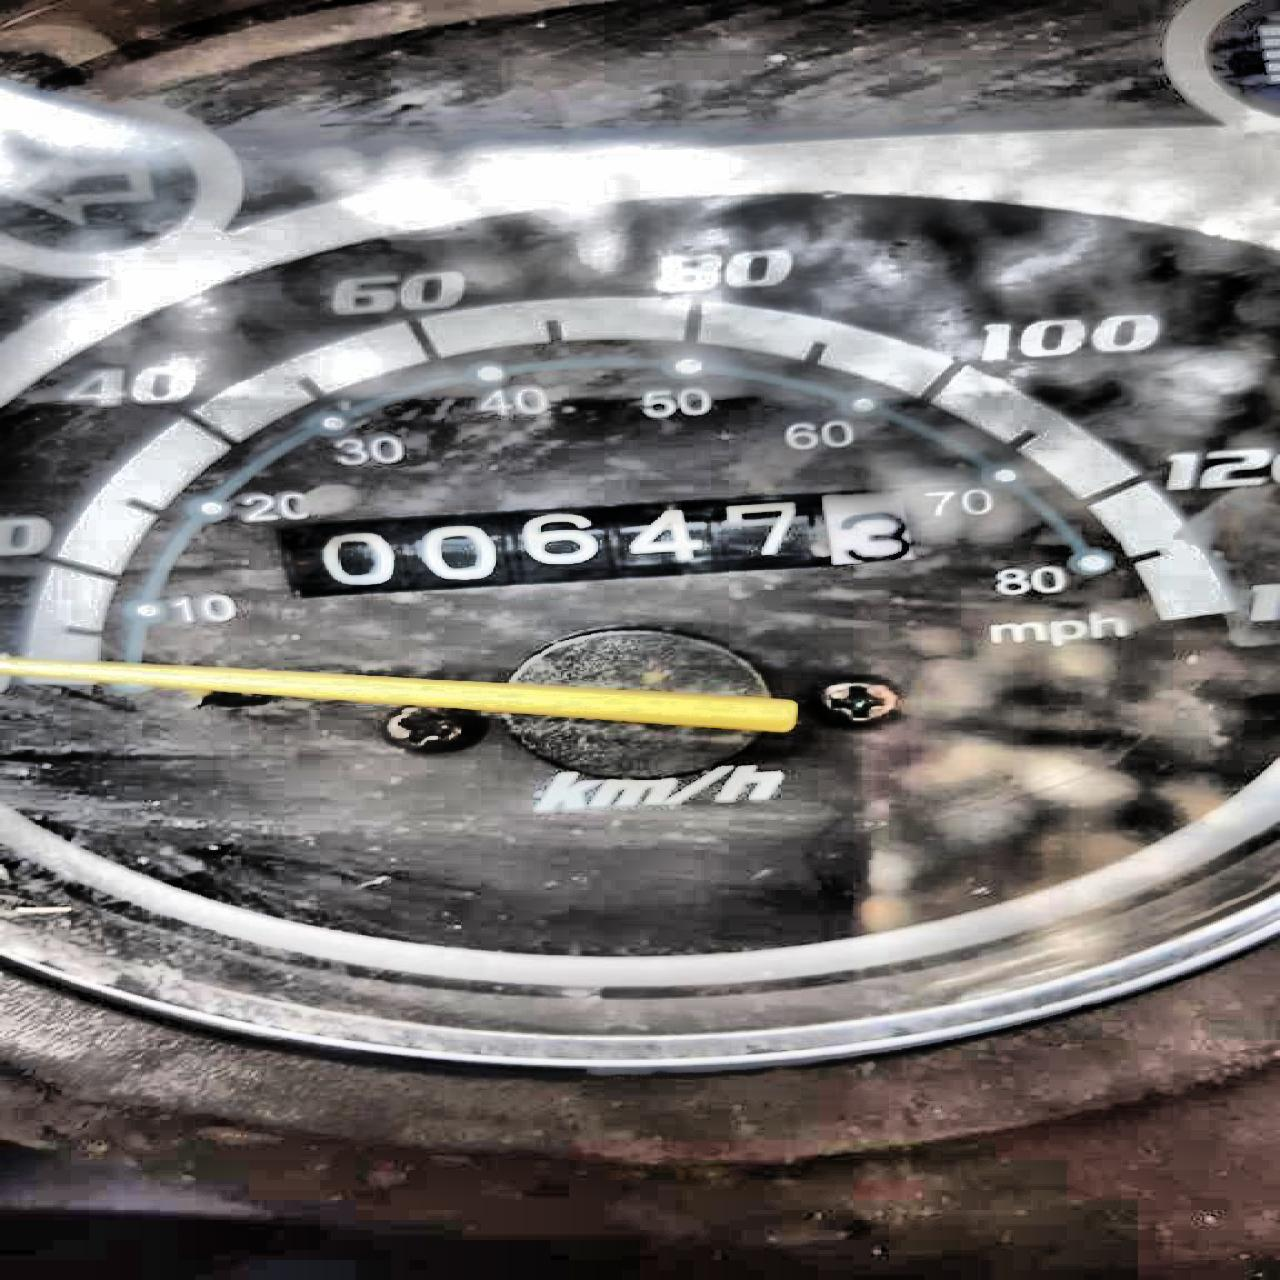0: (414, 519, 504, 586), (305, 527, 395, 591), (273, 490, 311, 520)
3: (831, 509, 915, 571)
4: (618, 503, 704, 564)
6: (518, 506, 600, 568)
7: (719, 498, 799, 560)
odometer: (268, 481, 922, 600)
